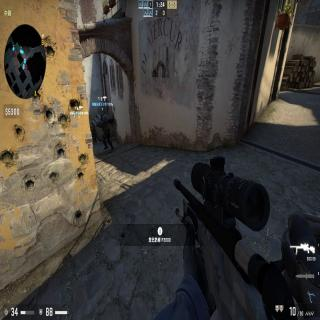CT-Body: (96, 112, 114, 151)
CT-Head: (99, 112, 105, 119)
